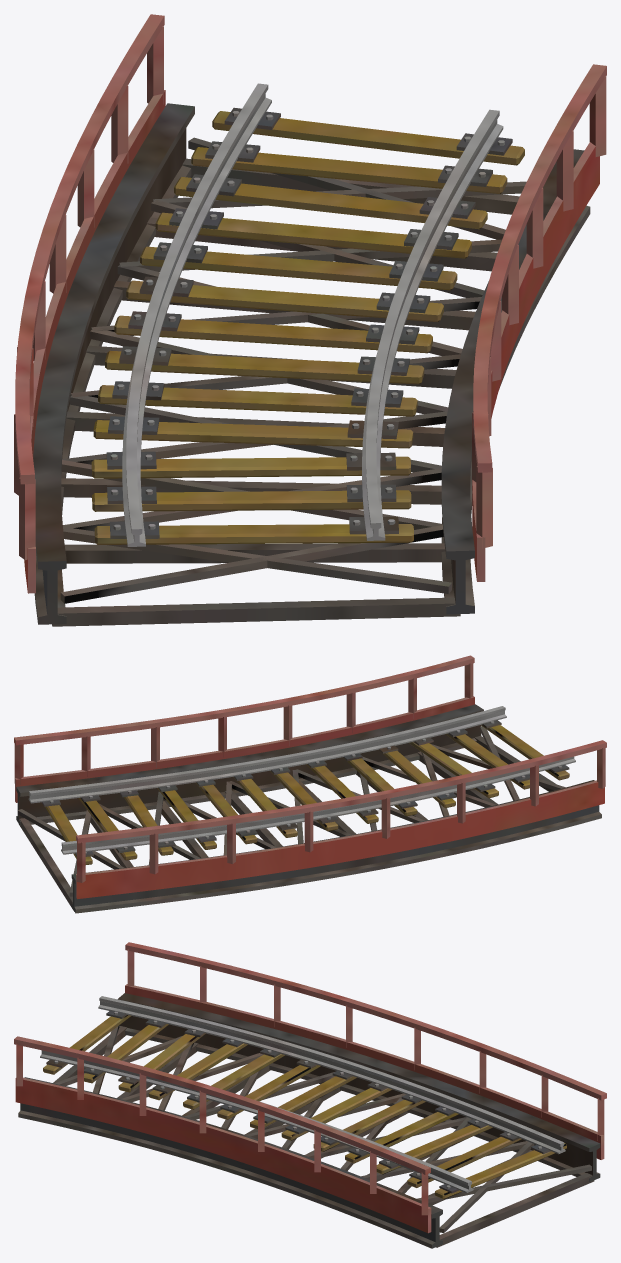
File: elevated-curved-rail-b-ne.glb
The picture shows the model from 3 angles, top to bottom: view 1: azimuth 30°, elevation 25°; view 2: azimuth 150°, elevation 25°; view 3: azimuth 270°, elevation 25°; orthographic projection. The views are drawn at different scales.
Parts seen in each view (by area): view 1: body; view 2: body; view 3: body.
Boxes of the visible parts, <box> form: body: <box>14,14,606,626</box>; body: <box>14,655,606,913</box>; body: <box>14,942,606,1248</box>.
Bounding box in the file's own units: 4.85 × 0.825 × 5.33.
1 material, 1 textured.
